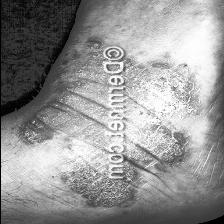Non-Cancerous Skin Condition: (140, 41, 208, 194), (2, 124, 100, 208), (60, 46, 99, 114)
